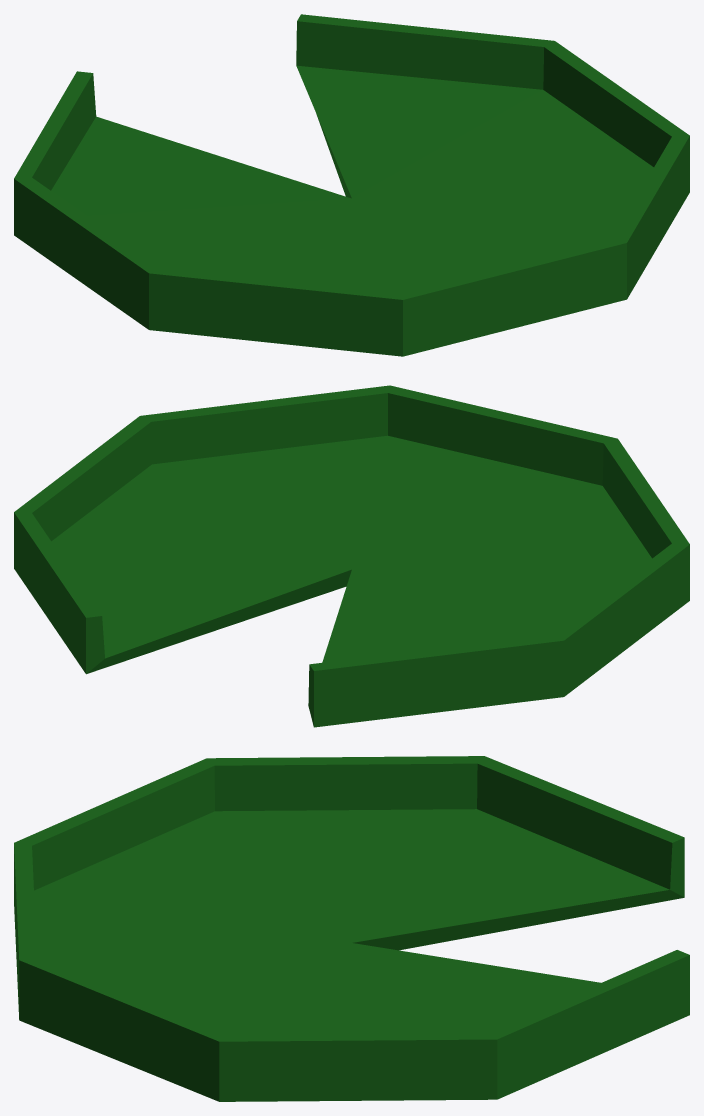
Rendered from Lilly_Pad.fbx.
The picture shows the model from 3 angles, top to bottom: view 1: azimuth 30°, elevation 25°; view 2: azimuth 150°, elevation 25°; view 3: azimuth 270°, elevation 25°; orthographic projection. The views are drawn at different scales.
Visible parts, largest first — view 1: Lilly_Pad; view 2: Lilly_Pad; view 3: Lilly_Pad.
Boxes of the visible parts, x1,y1,x2,y2 form: Lilly_Pad: (14,14,689,356); Lilly_Pad: (14,385,689,727); Lilly_Pad: (14,756,689,1101).
Size of the model in its own units: 42.46 by 4.17 by 42.46.
